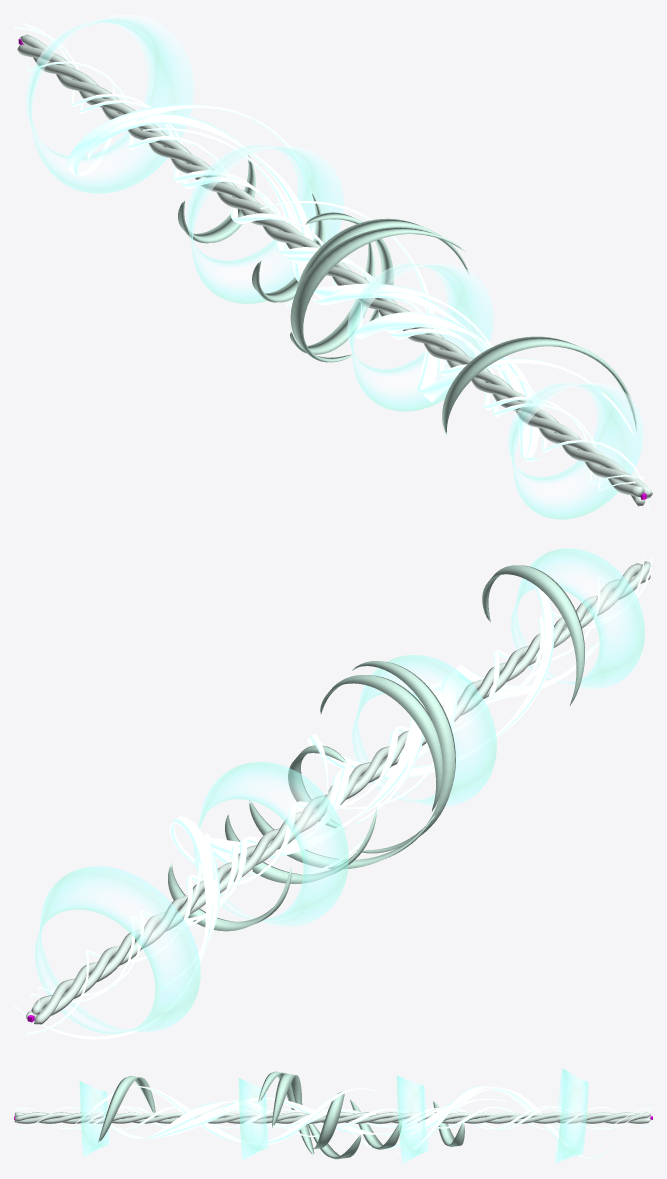
Rendered from WindBeam.fbx.
3 renders of one model, top to bottom at view 1: azimuth 30°, elevation 25°; view 2: azimuth 150°, elevation 25°; view 3: azimuth 270°, elevation 25°, orthographic. The views are drawn at different scales.
Visible parts, largest first — view 1: Rings.001, Streams, Core.004, Blades; view 2: Rings.001, Streams, Blades, Core.004; view 3: Streams, Rings.001, Core.004, Blades.
Boxes of the visible parts, left/top/right/bottom form: Rings.001: left=26, top=14, right=643, bottom=519; Streams: left=14, top=22, right=648, bottom=511; Core.004: left=17, top=34, right=652, bottom=506; Blades: left=178, top=155, right=637, bottom=434; Rings.001: left=35, top=548, right=644, bottom=1034; Streams: left=14, top=552, right=652, bottom=1039; Blades: left=168, top=565, right=584, bottom=931; Core.004: left=26, top=561, right=650, bottom=1024; Streams: left=15, top=1086, right=651, bottom=1158; Rings.001: left=79, top=1068, right=588, bottom=1164; Core.004: left=14, top=1112, right=651, bottom=1123; Blades: left=98, top=1071, right=464, bottom=1159.
Bounding box in the file's own units: 3.62 × 3.65 × 24.1.
